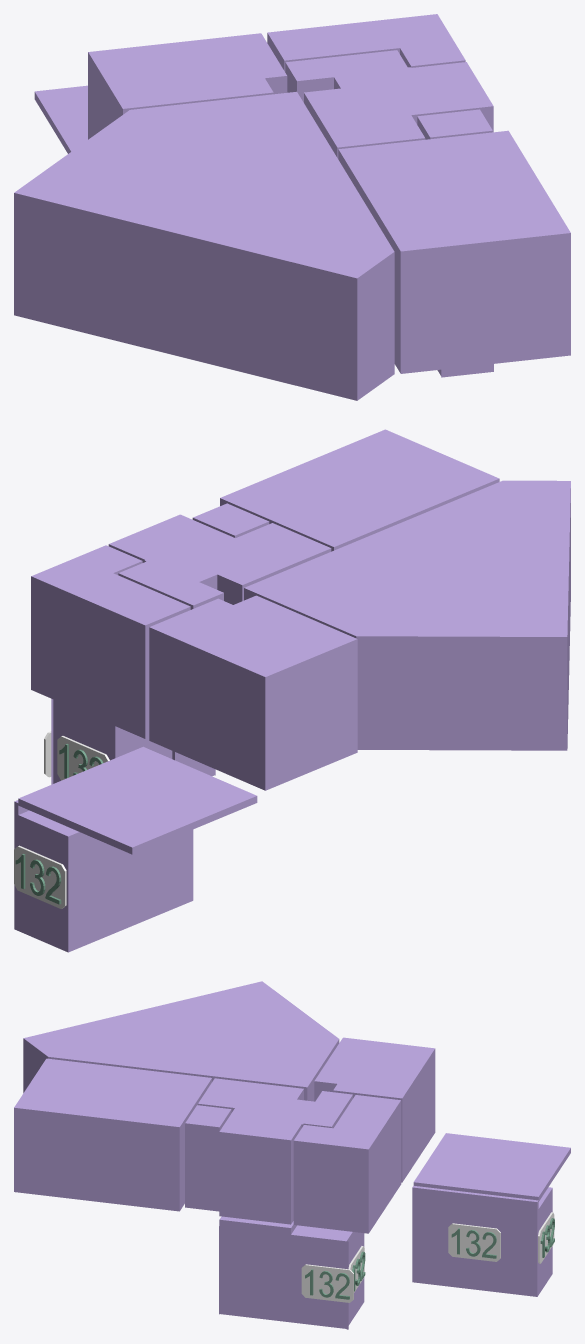
3 views of the same model, one above another, from view 1: azimuth 30°, elevation 25°; view 2: azimuth 150°, elevation 25°; view 3: azimuth 270°, elevation 25° (orthographic). The views are drawn at different scales.
Parts seen in each view (by area): view 1: g_7, g_2, g_6, g_3, g_5, g_8, g_10, g_4; view 2: g_7, g_6, g_5, g_2, g_1, g_10, g_3, g_0, g_8, g_14, g_4, g_26; view 3: g_2, g_7, g_5, g_1, g_9, g_6, g_8, g_10, g_3, g_4, g_0, g_18 (+1 smaller).
Boxes of the visible parts, x1,y1,x2,y2 form: g_7: (14,91,394,400); g_2: (338,130,570,373); g_6: (88,33,287,139); g_3: (285,50,435,158); g_5: (267,14,465,71); g_8: (412,62,493,132); g_10: (34,85,87,153); g_4: (417,109,492,139); g_7: (244,480,570,750); g_6: (149,595,357,790); g_5: (31,545,190,738); g_2: (220,429,499,551); g_1: (14,800,193,952); g_10: (18,746,257,854); g_3: (118,523,331,609); g_0: (51,698,172,784); g_8: (108,514,218,562); g_14: (14,845,66,908); g_4: (192,503,269,537); g_26: (57,736,109,780); g_2: (14,1058,211,1211); g_7: (23,981,339,1101); g_5: (293,1095,401,1233); g_1: (412,1185,552,1296); g_9: (219,1216,313,1324); g_6: (314,1037,435,1182); g_8: (219,1115,301,1224); g_10: (413,1133,570,1201); g_3: (198,1078,352,1128); g_4: (185,1105,231,1211); g_0: (307,1227,364,1329); g_18: (301,1264,353,1302).
Bounding box in the file's own units: 10.27 × 5.2 × 14.37.
